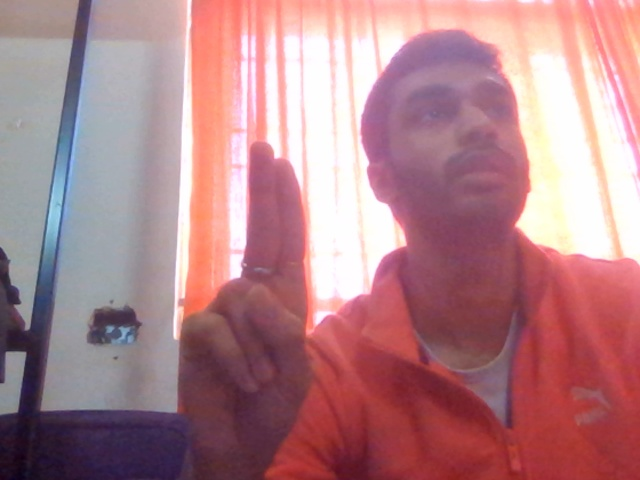U: (136, 130, 407, 480)
